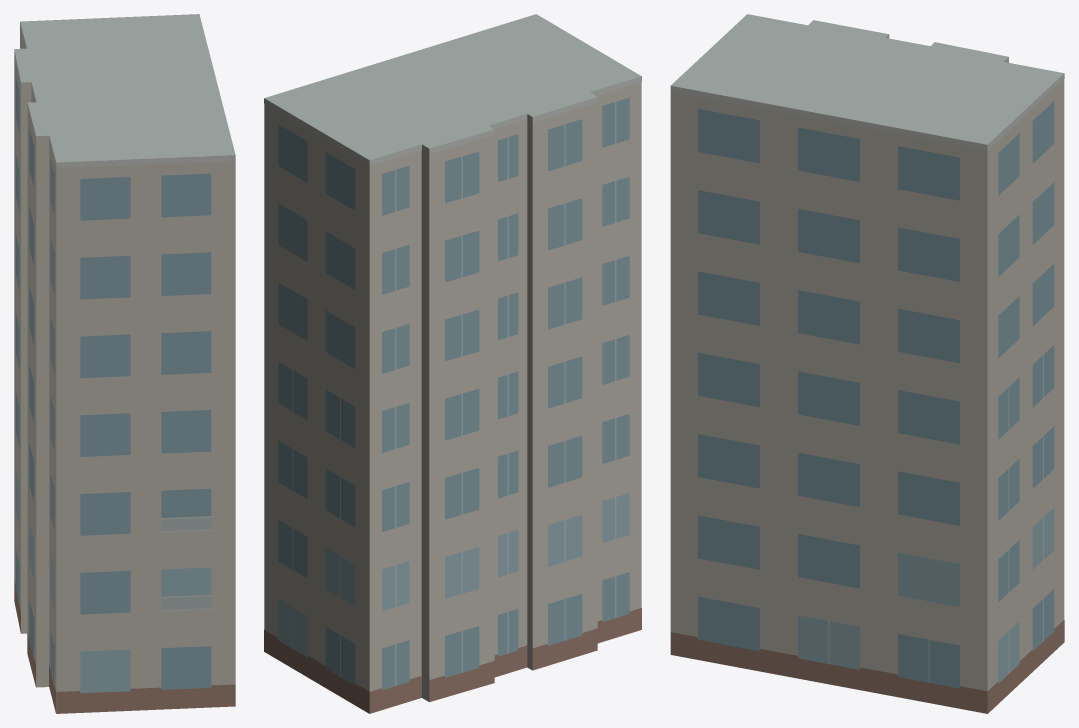
The model's file is survey-upis-32679590.glb.
3 renders of one model, left to right at view 1: azimuth 30°, elevation 25°; view 2: azimuth 150°, elevation 25°; view 3: azimuth 270°, elevation 25°, orthographic. The views are drawn at different scales.
Parts seen in each view (by area): view 1: survey-upis-32679590.tmp; view 2: survey-upis-32679590.tmp; view 3: survey-upis-32679590.tmp.
Boxes of the visible parts, x1=… form: survey-upis-32679590.tmp: x1=14, y1=14, x2=235, y2=713; survey-upis-32679590.tmp: x1=264, y1=14, x2=641, y2=713; survey-upis-32679590.tmp: x1=670, y1=14, x2=1064, y2=713.
Bounding box in the file's own units: 11.84 × 24 × 15.06.
